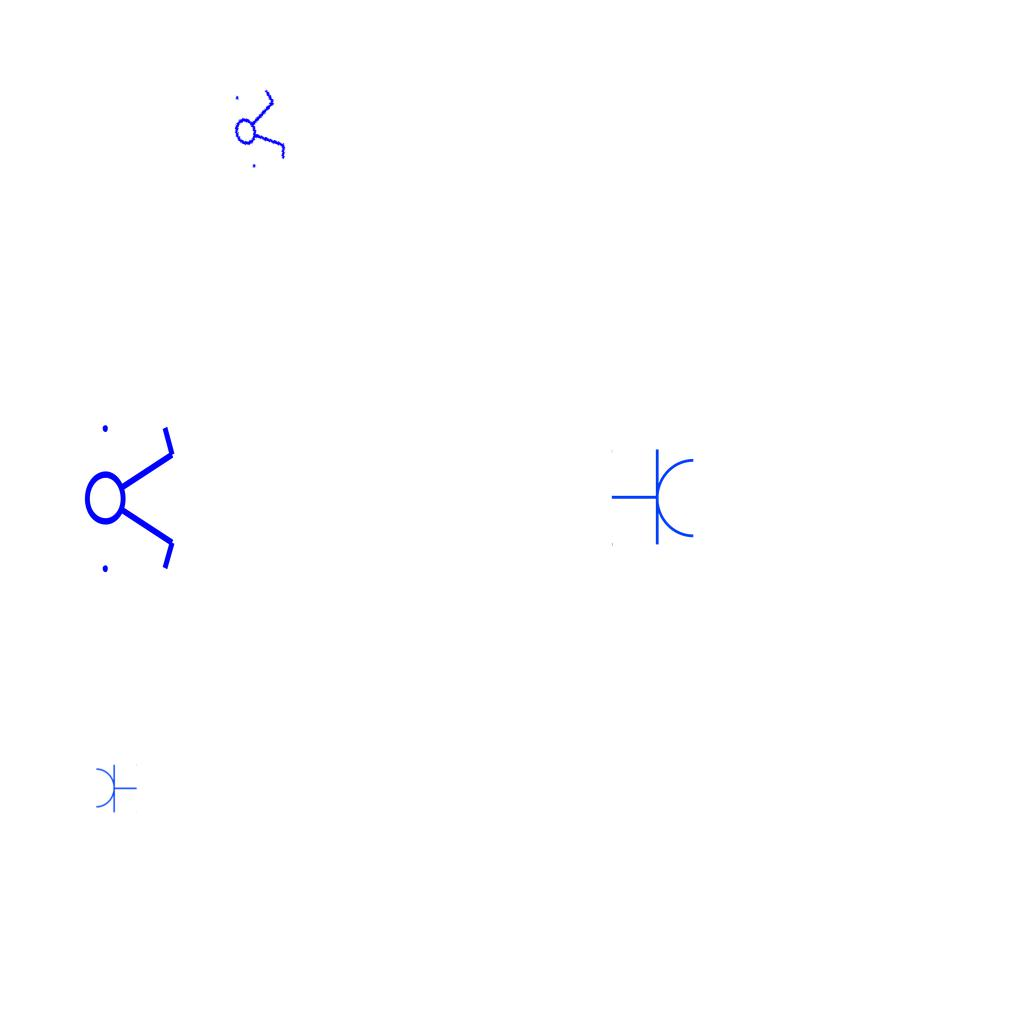Schukosteckdose_einfach: (611, 448, 698, 548), (94, 763, 137, 813)
Serienschalter: (83, 413, 179, 581), (224, 81, 292, 175)
